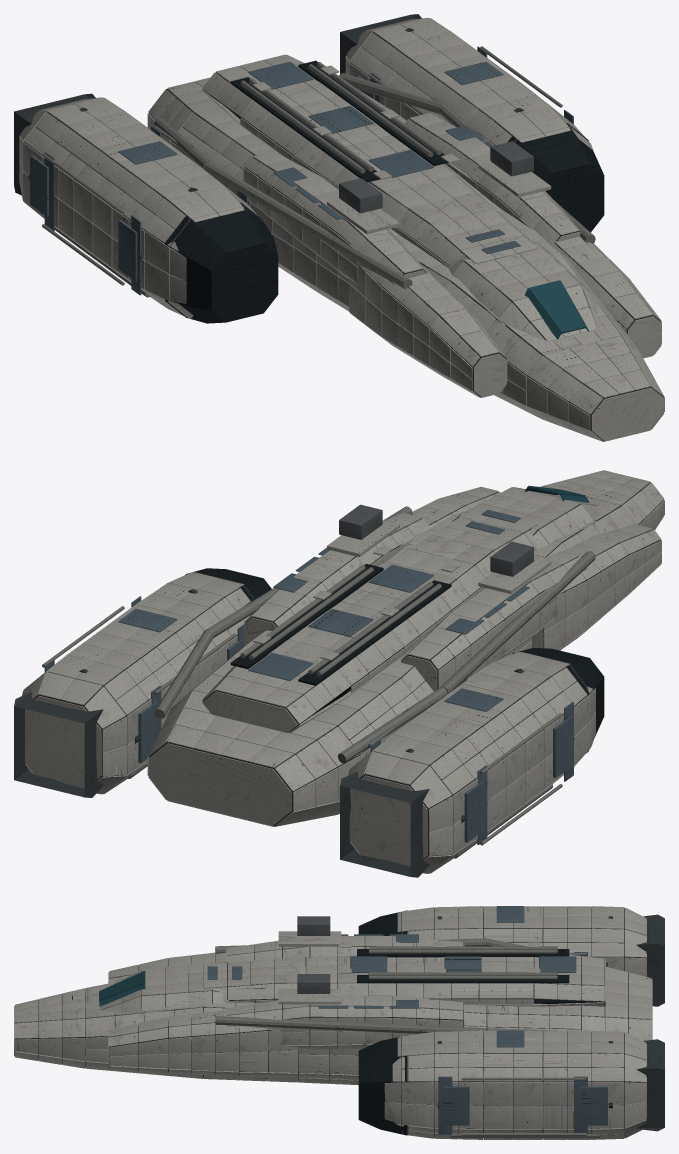
File: model-outline.glb
3 renders of one model, top to bottom at view 1: azimuth 30°, elevation 25°; view 2: azimuth 150°, elevation 25°; view 3: azimuth 270°, elevation 25°, orthographic. The views are drawn at different scales.
Parts seen in each view (by area): view 1: pale-steel-0, pale-steel-1, pale-steel-2, armoured-drive-cap, machined-alloy, blue-grey-1, recess-black, dark-structure, armour-2, canopy-glass, profiled-drive, armoured-central-hull; view 2: pale-steel-0, pale-steel-1, pale-steel-2, machined-alloy, blue-grey-1, dark-structure, recess-black, armoured-drive-cap, armour-2, profiled-drive, armoured-central-hull, raised-keel (+1 smaller); view 3: pale-steel-0, pale-steel-1, pale-steel-2, blue-grey-1, machined-alloy, armoured-drive-cap, dark-structure, recess-black, profiled-drive, armour-2, raised-keel, armoured-central-hull (+3 smaller).
Part boxes in pixels (x1,y1,x2,y2): pale-steel-0: (19, 17, 664, 440); pale-steel-1: (148, 54, 664, 441); pale-steel-2: (147, 66, 664, 441); armoured-drive-cap: (165, 123, 604, 323); machined-alloy: (42, 46, 595, 297); blue-grey-1: (30, 46, 573, 295); recess-black: (230, 60, 447, 182); dark-structure: (14, 14, 566, 300); armour-2: (339, 141, 533, 213); canopy-glass: (525, 280, 589, 339); profiled-drive: (23, 32, 512, 274); armoured-central-hull: (149, 89, 663, 440); pale-steel-0: (22, 478, 664, 873); pale-steel-1: (147, 474, 664, 822); pale-steel-2: (148, 470, 655, 826); machined-alloy: (42, 506, 595, 858); blue-grey-1: (44, 509, 573, 844); dark-structure: (14, 587, 587, 877); recess-black: (230, 563, 451, 685); armoured-drive-cap: (185, 568, 604, 753); armour-2: (339, 504, 533, 576); profiled-drive: (34, 588, 590, 859); armoured-central-hull: (149, 482, 663, 825); raised-keel: (202, 528, 531, 732); pale-steel-0: (14, 906, 652, 1139); pale-steel-1: (15, 936, 651, 1085); pale-steel-2: (15, 936, 651, 1082); blue-grey-1: (207, 906, 607, 1134); machined-alloy: (215, 938, 599, 1137); armoured-drive-cap: (358, 910, 407, 1135); dark-structure: (407, 914, 664, 1134); recess-black: (357, 949, 569, 983); profiled-drive: (400, 907, 645, 1138); armour-2: (297, 916, 330, 993); raised-keel: (212, 956, 604, 1006); armoured-central-hull: (15, 973, 651, 1082).
Size of the model in its own units: 33.82 by 11.03 by 55.19.
Materials: 10 (9 with a texture image).
